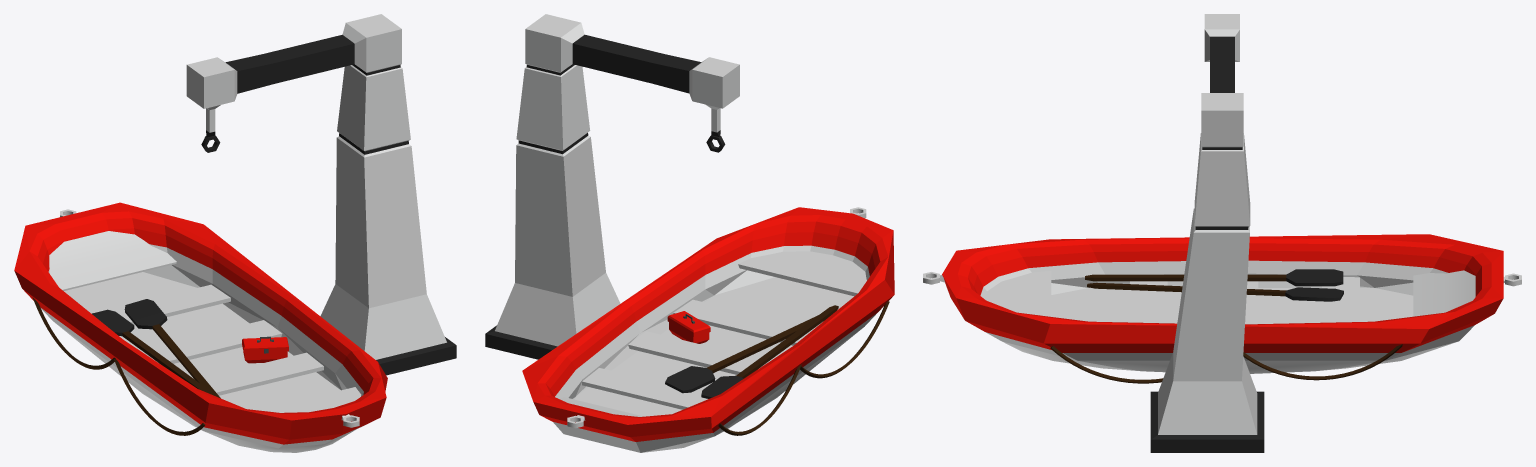
Rendered from Barco.fbx.
3 views of the same model, side by side, from view 1: azimuth 30°, elevation 25°; view 2: azimuth 150°, elevation 25°; view 3: azimuth 270°, elevation 25° (orthographic). The views are drawn at different scales.
Visible parts, largest first — view 1: Barco, Grua, Remo001, Remo, CajHerramientas001, Arc002, Arc001; view 2: Barco, Grua, Remo001, Remo, CajHerramientas001, Arc002, Arc001; view 3: Barco, Grua, Remo, Remo001, Arc003.
Part boxes in pixels (x1,y1,x2,y2): Barco: (14, 202, 387, 452); Grua: (186, 14, 456, 375); Remo001: (124, 299, 220, 398); Remo: (92, 309, 219, 397); CajHerramientas001: (242, 336, 288, 363); Arc002: (114, 359, 205, 435); Arc001: (32, 297, 115, 369); Barco: (522, 207, 894, 452); Grua: (485, 14, 739, 359); Remo001: (665, 315, 818, 393); Remo: (701, 305, 838, 398); CajHerramientas001: (667, 311, 710, 343); Arc002: (800, 301, 889, 378); Arc001: (718, 364, 801, 435); Barco: (942, 234, 1503, 373); Grua: (1150, 14, 1264, 452); Remo: (1085, 269, 1343, 286); Remo001: (1087, 282, 1343, 301); Arc003: (1243, 344, 1402, 380).
Bounding box in the file's own units: 43.28 × 42.94 × 71.26.
